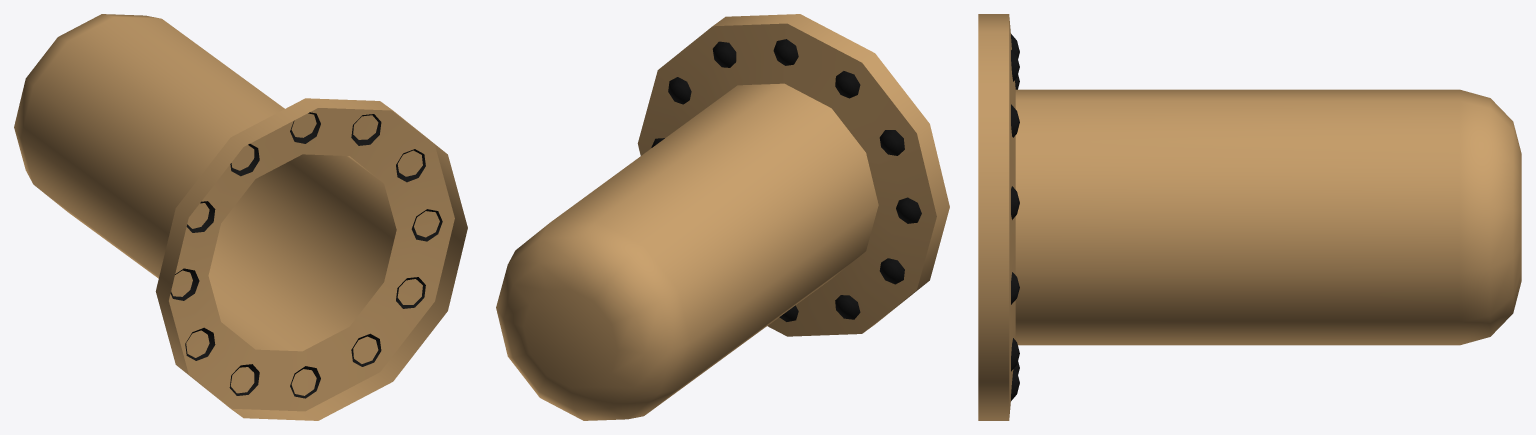
Rendered from deadEndPipe_mesh.fbx.
3 views of the same model, side by side, from view 1: azimuth 30°, elevation 25°; view 2: azimuth 150°, elevation 25°; view 3: azimuth 270°, elevation 25° (orthographic). The views are drawn at different scales.
Visible parts, largest first — view 1: deadEndPipe; view 2: deadEndPipe; view 3: deadEndPipe.
Part boxes in pixels (x1=…): deadEndPipe: x1=14, y1=14, x2=467, y2=420; deadEndPipe: x1=496, y1=14, x2=949, y2=420; deadEndPipe: x1=978, y1=14, x2=1521, y2=420.
Bounding box in the file's own units: 0.4576 × 0.4576 × 0.6083.
